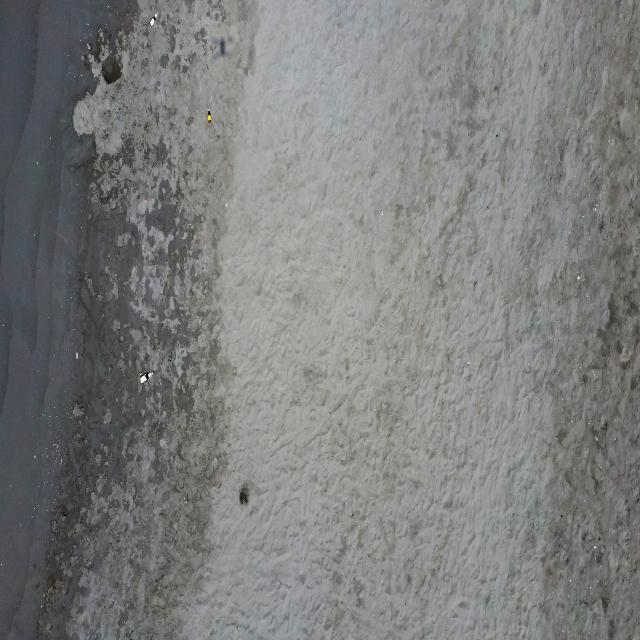glass: (139, 370, 155, 385), (149, 12, 158, 28), (207, 108, 210, 124)
